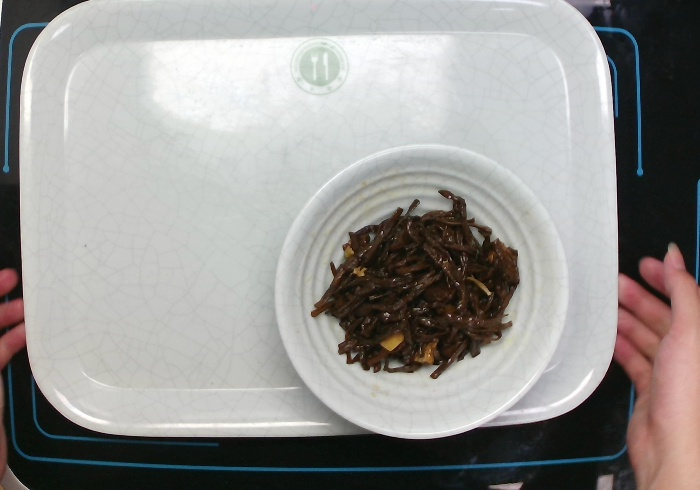JYsf-Xiao_Tang_Wan: (273, 144, 574, 444)
